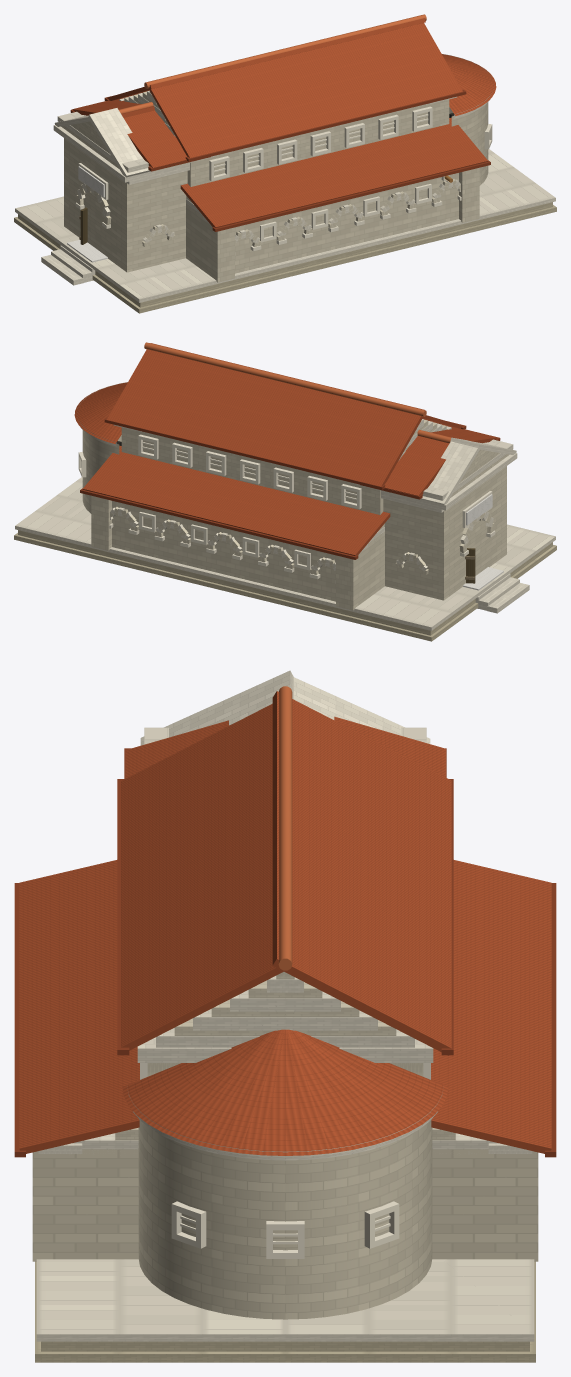
Rendered from pol-3-built.glb.
3 renders of one model, top to bottom at view 1: azimuth 30°, elevation 25°; view 2: azimuth 150°, elevation 25°; view 3: azimuth 270°, elevation 25°, orthographic. The views are drawn at different scales.
Bounding box in the file's own units: 43.92 × 16.28 × 23.58.
Materials: 34 (29 with a texture image).
